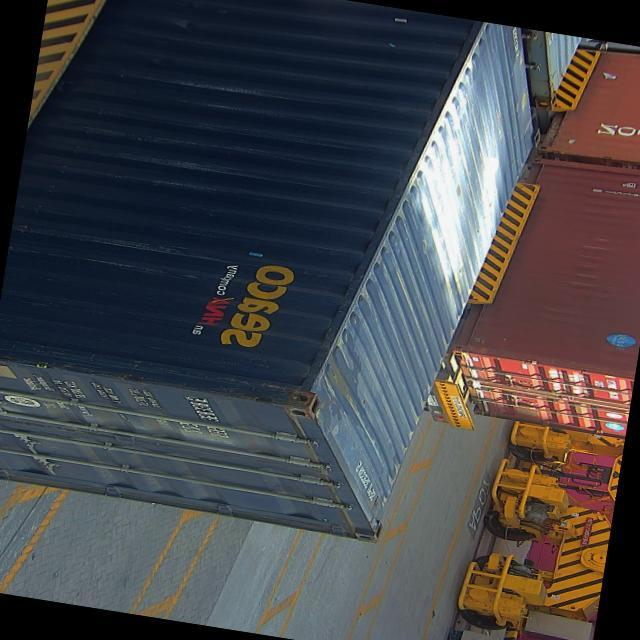rust: (262, 380, 348, 434)
